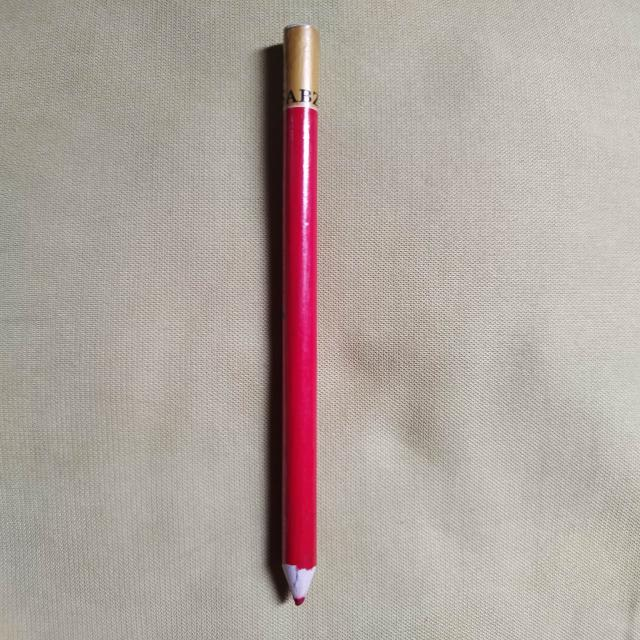pencil: (280, 23, 320, 606)
